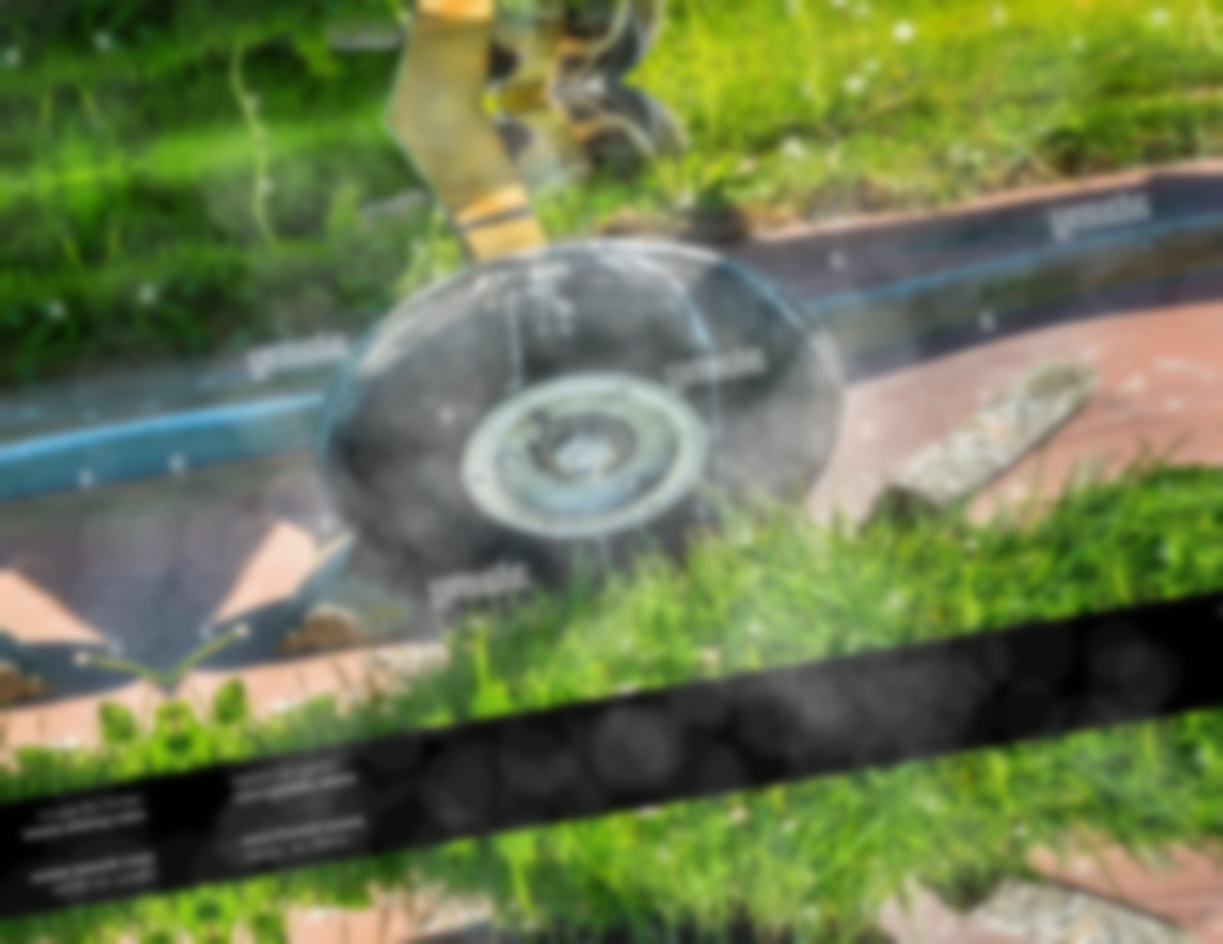chock: (847, 337, 1123, 535), (933, 830, 1210, 944), (249, 506, 429, 664), (0, 570, 64, 728)
wheel: (286, 199, 872, 630)
